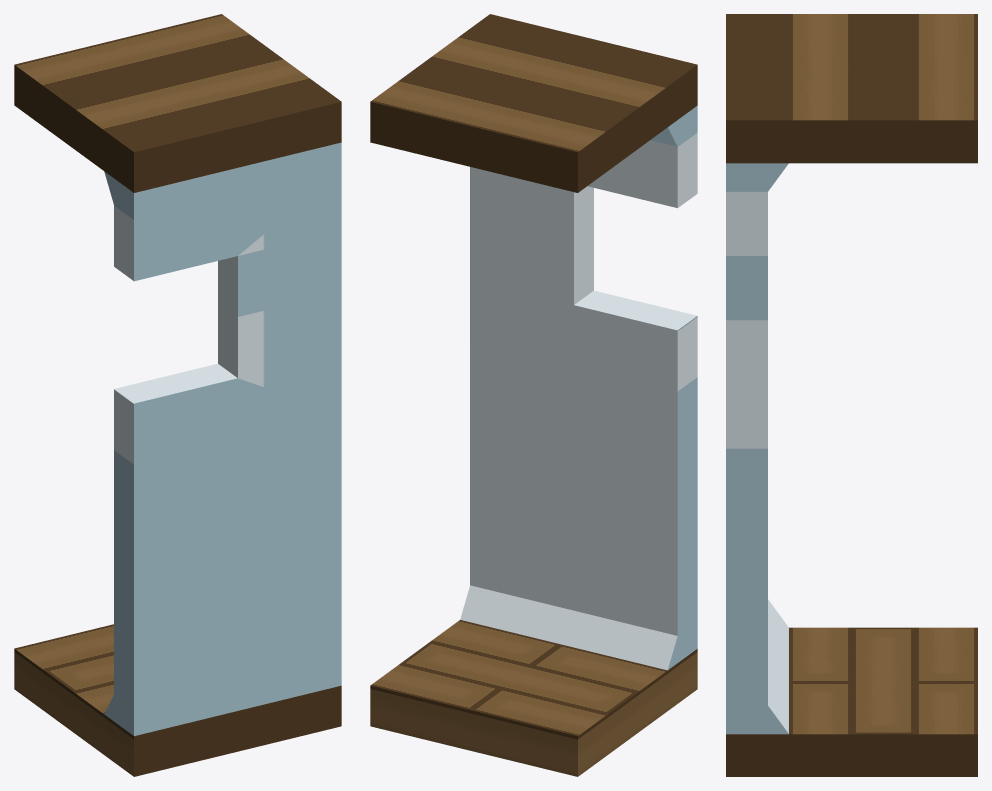
The model's file is HomeWallWindowFrontLeft.obj.
The picture shows the model from 3 angles, left to right: view 1: azimuth 30°, elevation 25°; view 2: azimuth 150°, elevation 25°; view 3: azimuth 270°, elevation 25°; orthographic projection. The views are drawn at different scales.
Visible parts, largest first — view 1: Wall, Mid; view 2: Wall, Mid; view 3: Mid, Wall.
Part boxes in pixels (x1,y1,x2,y2): Wall: (104,142,341,736); Mid: (14,14,341,776); Wall: (460,105,697,670); Mid: (370,14,697,776); Mid: (726,14,977,776); Wall: (726,163,788,734).
Size of the model in its own units: 1 by 2.88 by 1.
Materials: 2 (2 with a texture image).
